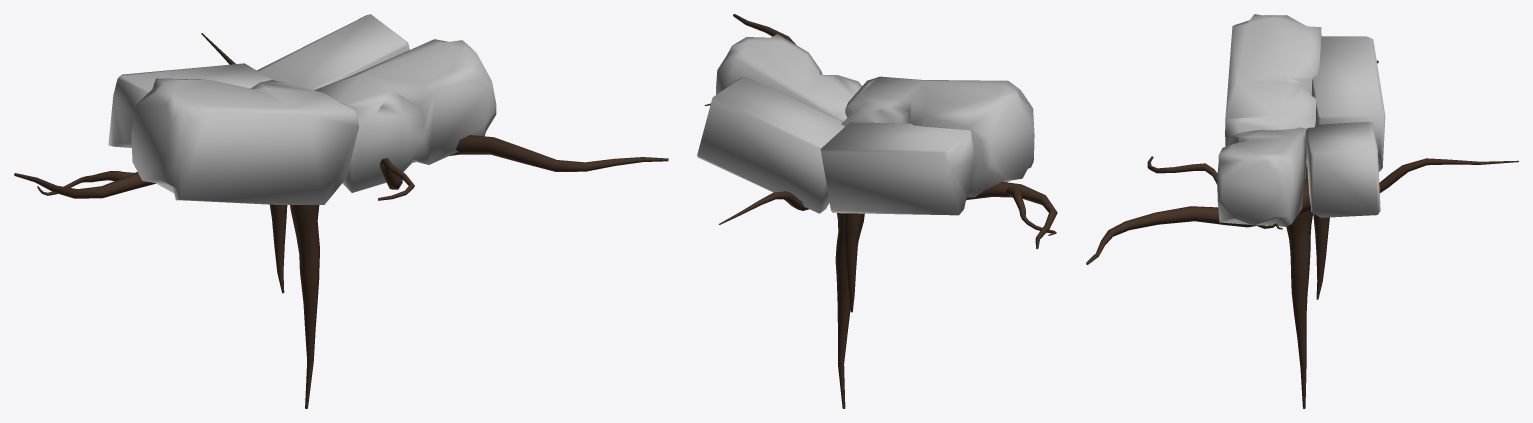
The model's file is VineCeiling3.fbx.
3 renders of one model, left to right at view 1: azimuth 30°, elevation 25°; view 2: azimuth 150°, elevation 25°; view 3: azimuth 270°, elevation 25°, orthographic. The views are drawn at different scales.
Parts seen in each view (by area): view 1: BezierCurve.021; view 2: BezierCurve.021; view 3: BezierCurve.021.
Part boxes in pixels (bbox=[...]): BezierCurve.021: bbox=[14, 14, 668, 408]; BezierCurve.021: bbox=[697, 14, 1057, 408]; BezierCurve.021: bbox=[1086, 14, 1518, 408].
Size of the model in its own units: 593 by 418 by 504.
